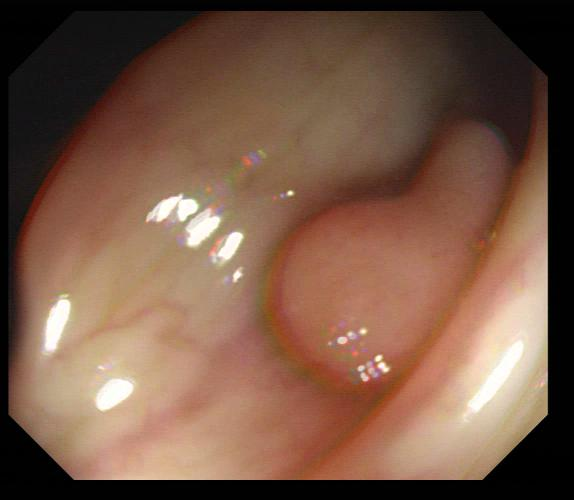polyp: (274, 124, 511, 398)
